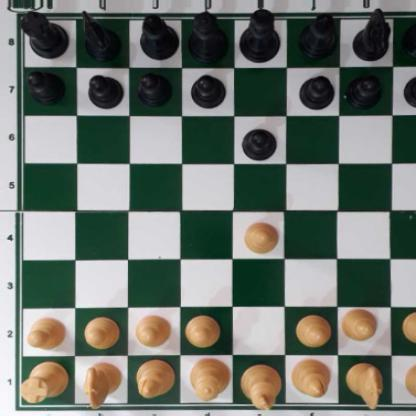black-bishop: (297, 11, 338, 58), (139, 13, 179, 59)
black-king: (238, 8, 280, 62)
black-knight: (353, 7, 390, 62), (82, 9, 120, 61)
black-pawn: (25, 70, 64, 103), (346, 72, 382, 107), (241, 125, 278, 159), (87, 72, 121, 108), (298, 75, 334, 109), (191, 72, 225, 107), (137, 72, 171, 106), (403, 72, 416, 108)
black-queen: (188, 11, 230, 61)
black-rook: (19, 10, 68, 56), (402, 11, 416, 58)
white-bishop: (291, 358, 330, 399), (135, 358, 173, 399)
white-king: (243, 361, 278, 410)
white-knight: (346, 361, 384, 410), (85, 361, 120, 409)
white-pawn: (24, 317, 67, 350), (134, 313, 170, 347), (242, 220, 279, 253), (342, 308, 377, 341), (185, 314, 221, 346), (294, 314, 330, 346), (84, 315, 119, 347), (401, 311, 416, 343)
white-queen: (190, 354, 228, 403)
white-rook: (19, 360, 68, 402), (404, 362, 416, 404)
